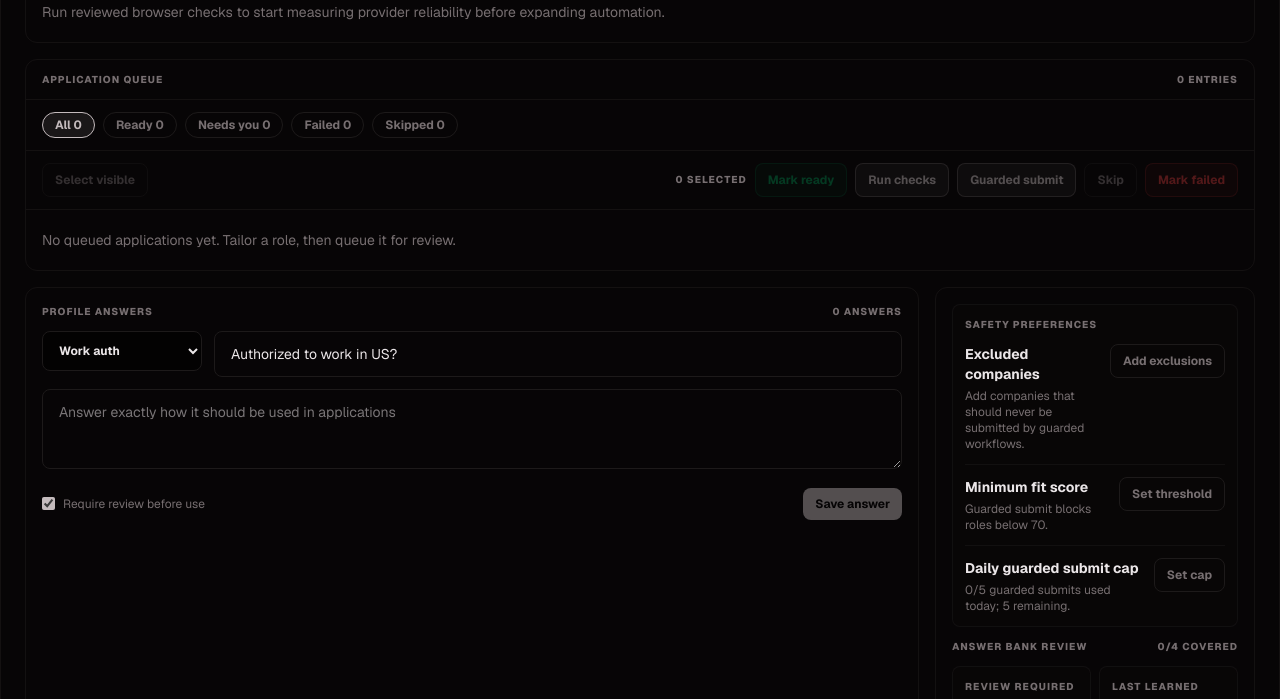
Scenario: ApplyAgentCommandCenter › prefills excluded-company safety preferences through the profile answer form
(page scrolled)
Expected: the text "Safety preferences" is shown, top-left (965, 318), bottom-right (1097, 330)
Click the button "Add exclusions": (1167, 360) top-left (1110, 344), bottom-right (1225, 378)
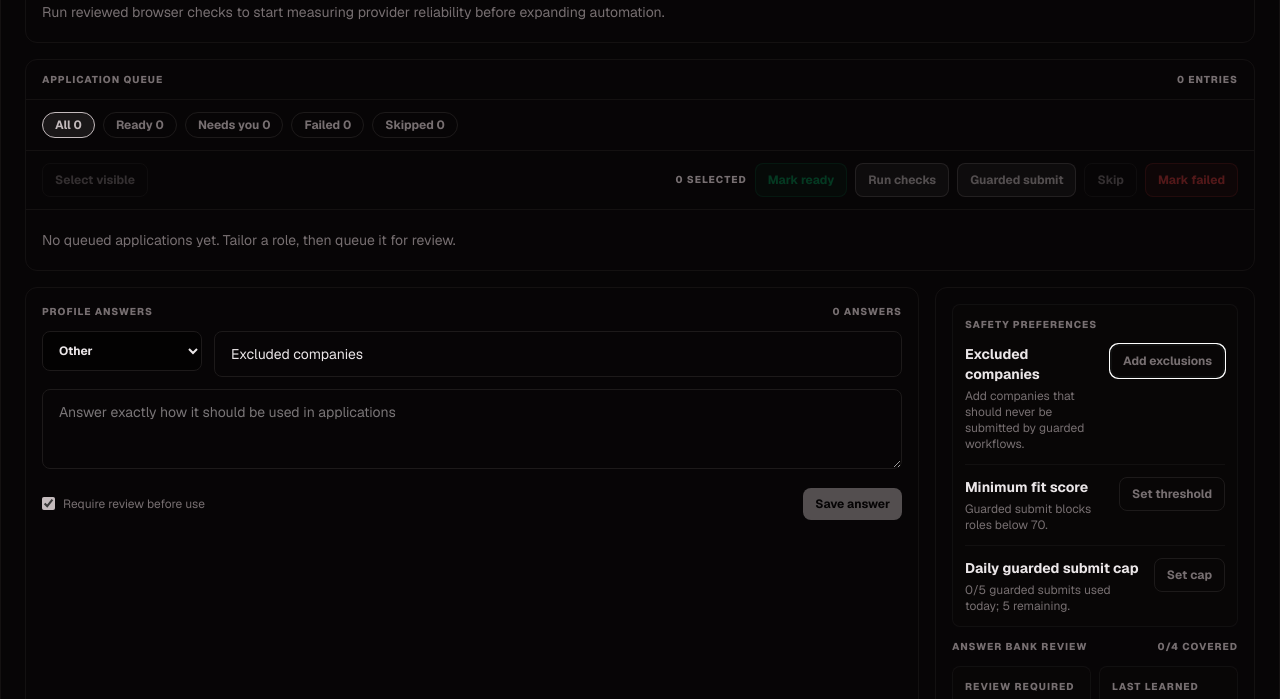
Now the field showing "Excluded companies" is shown, box top-left (214, 330), bottom-right (902, 376)
